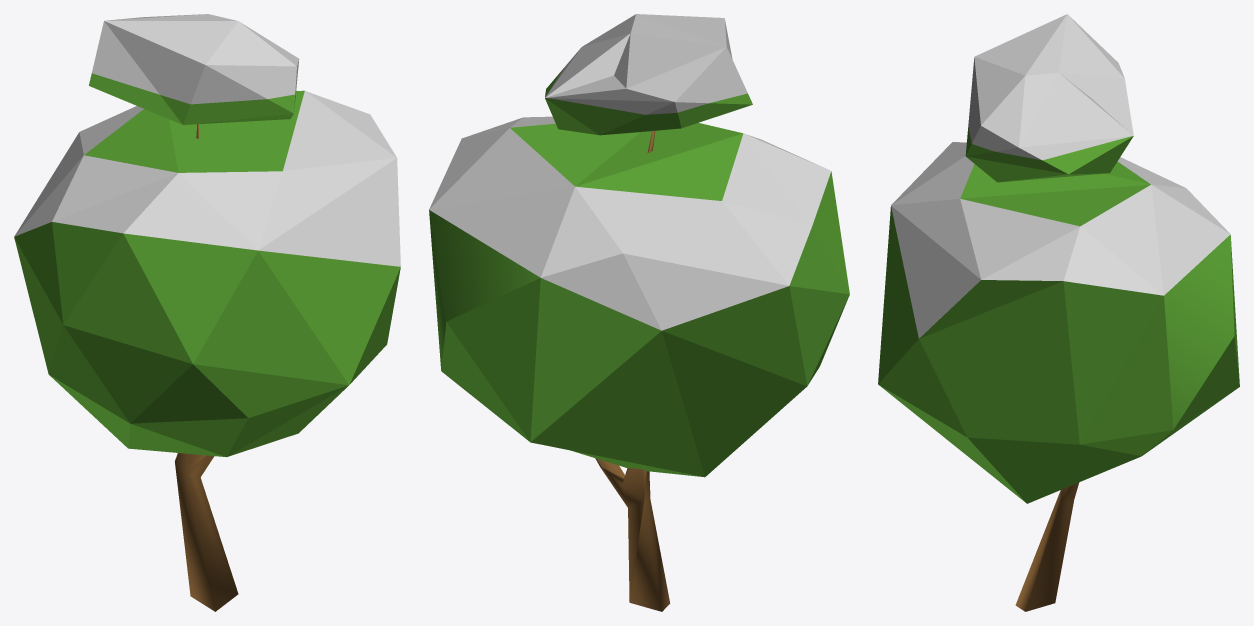
Rendered from bush_2Mod.fbx.
3 views of the same model, side by side, from view 1: azimuth 30°, elevation 25°; view 2: azimuth 150°, elevation 25°; view 3: azimuth 270°, elevation 25° (orthographic). The views are drawn at different scales.
Visible parts, largest first — view 1: Bush_2; view 2: Bush_2; view 3: Bush_2.
Boxes of the visible parts, x1,y1,x2,y2 form: Bush_2: (14,14,400,611); Bush_2: (429,14,849,611); Bush_2: (878,14,1239,611).
Bounding box in the file's own units: 155 × 254 × 151.
